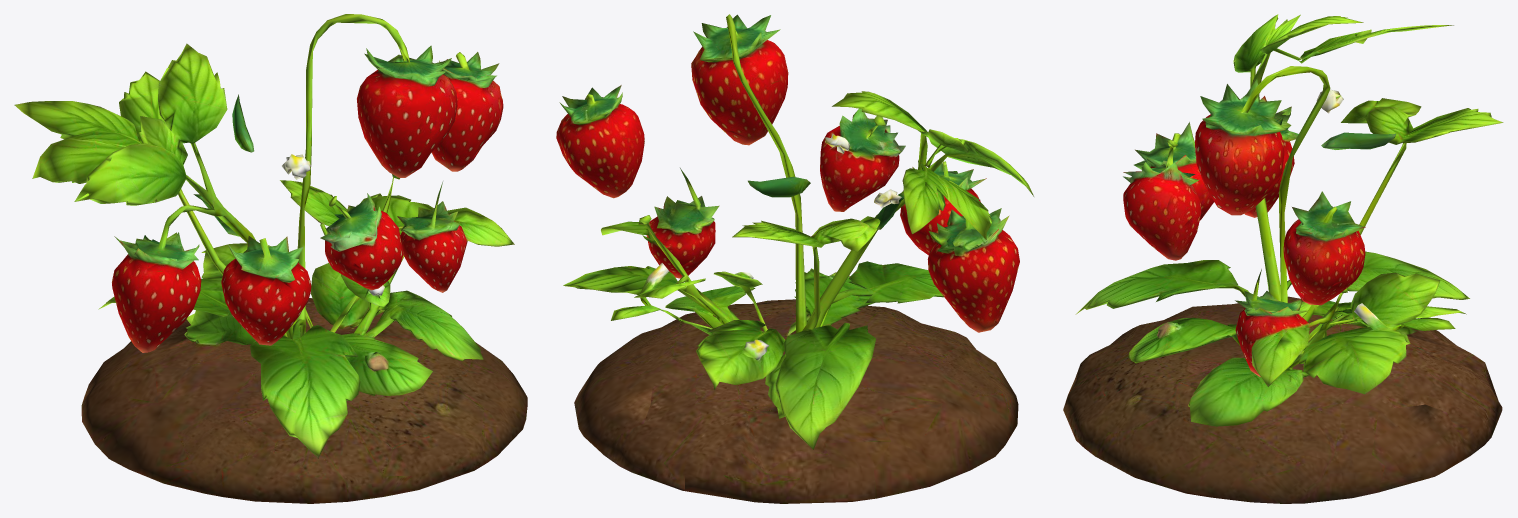
File: strawberry.glb
3 renders of one model, left to right at view 1: azimuth 30°, elevation 25°; view 2: azimuth 150°, elevation 25°; view 3: azimuth 270°, elevation 25°, orthographic.
Size of the model in its own units: 1.9 by 1.53 by 1.63.
Materials: 1 (1 with a texture image).
